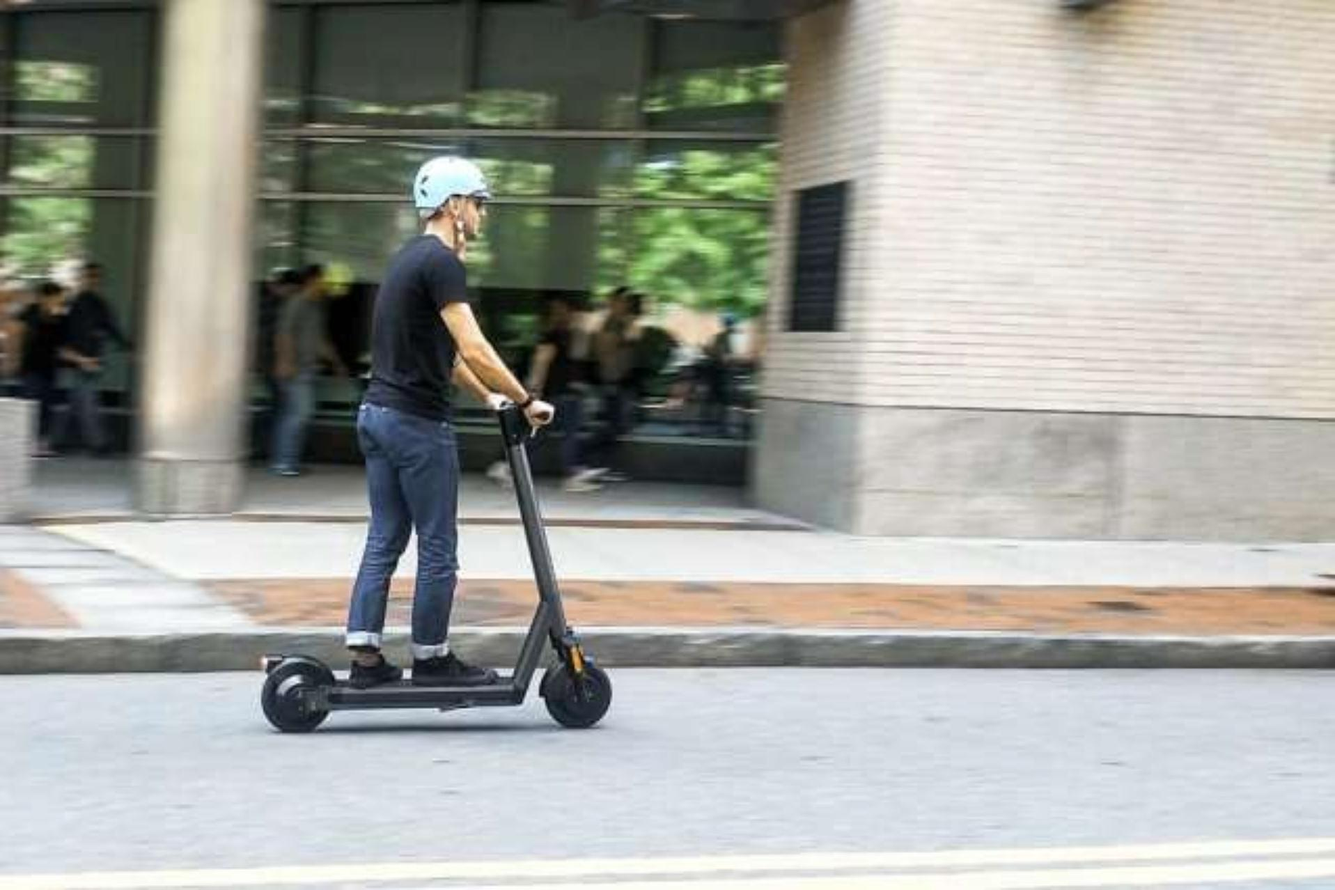helmet: (413, 144, 494, 254)
human: (338, 152, 543, 680)
kickboard: (257, 655, 621, 733)
